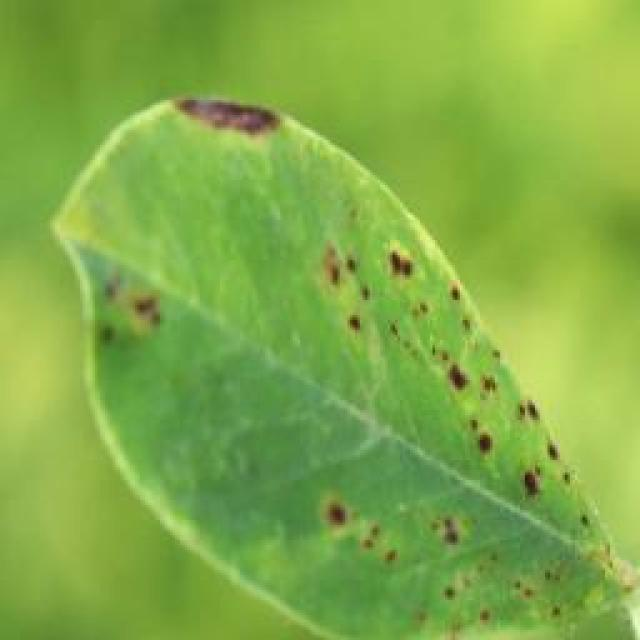Yellowish: (69, 236, 617, 640), (111, 79, 302, 153)
